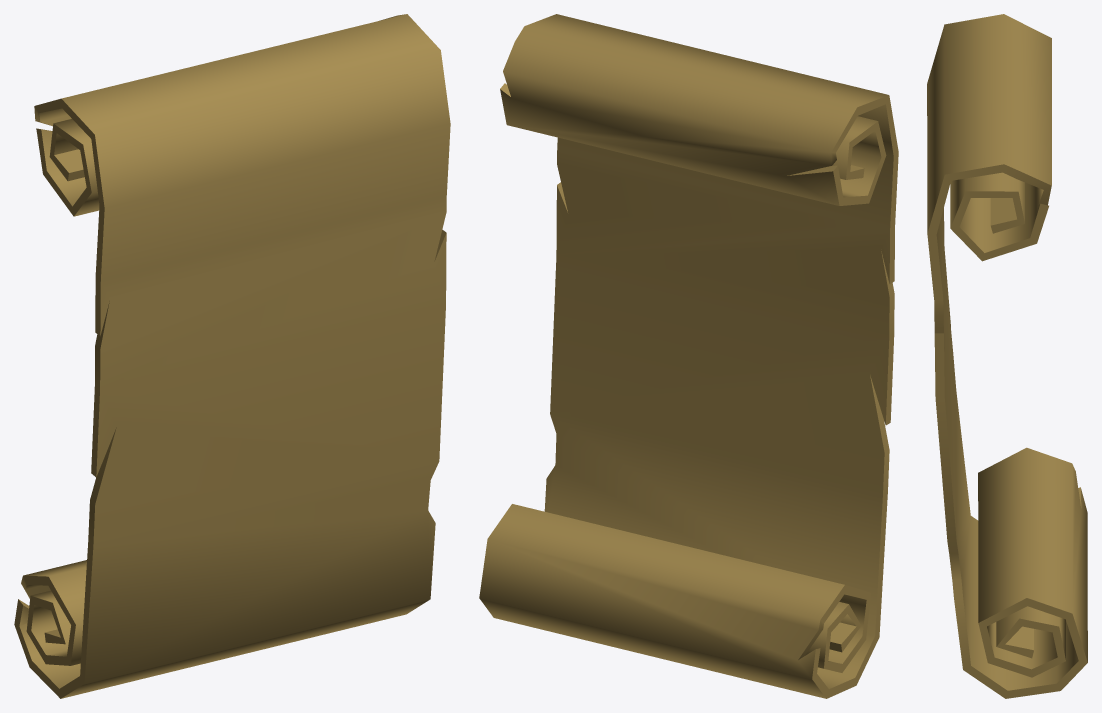
File: svitok.fbx
3 views of the same model, side by side, from view 1: azimuth 30°, elevation 25°; view 2: azimuth 150°, elevation 25°; view 3: azimuth 270°, elevation 25° (orthographic). The views are drawn at different scales.
Visible parts, largest first — view 1: Cube; view 2: Cube; view 3: Cube.
Part boxes in pixels (<box>): Cube: <box>14,14,450,698</box>; Cube: <box>479,14,898,698</box>; Cube: <box>927,14,1087,698</box>.
Size of the model in its own units: 88.23 by 146 by 39.88.
